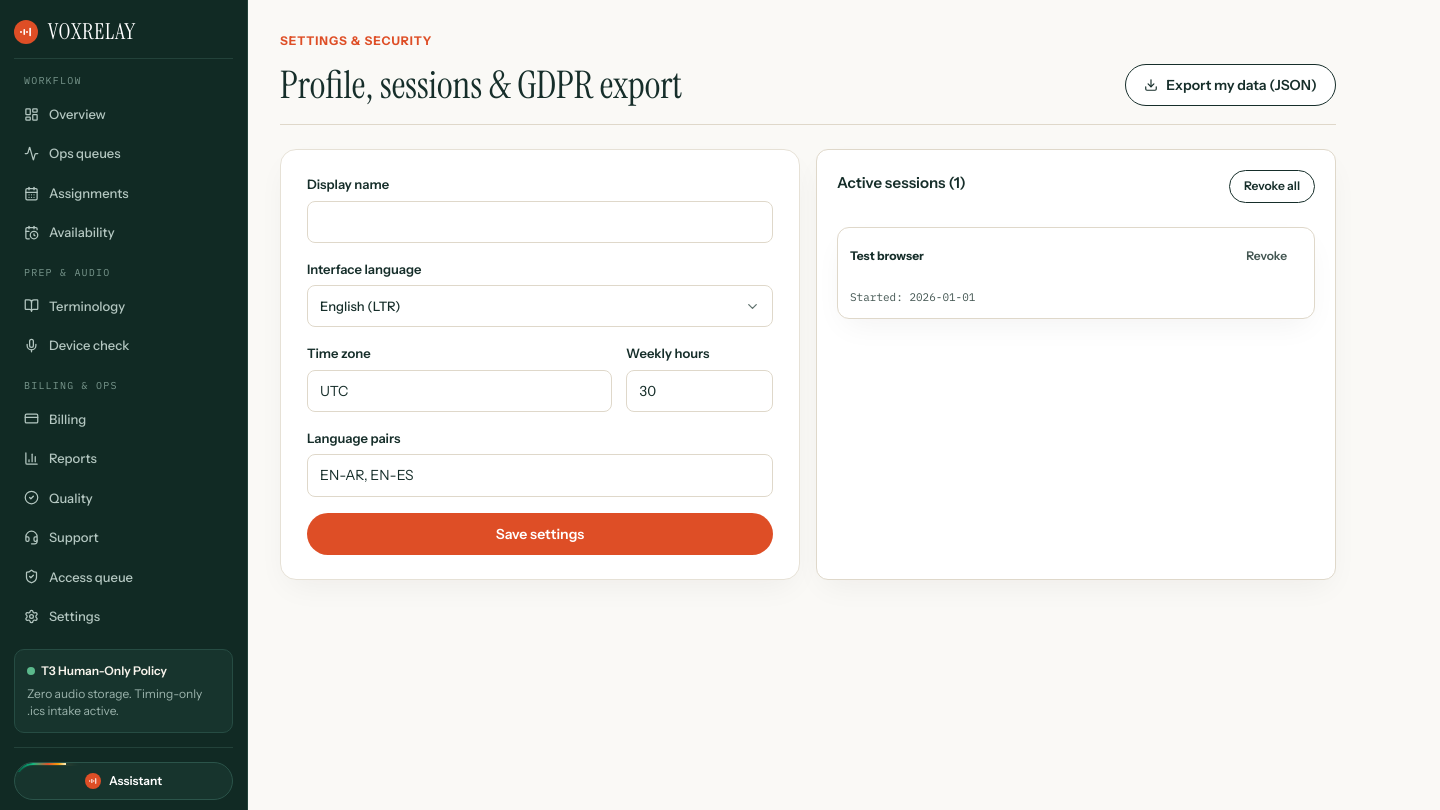
Scenario: shows a retry notice on revoke-all network failure
The image size is (1440, 810).
Click the button "Revoke all" at (1272, 186), box [1229,170,1315,203]
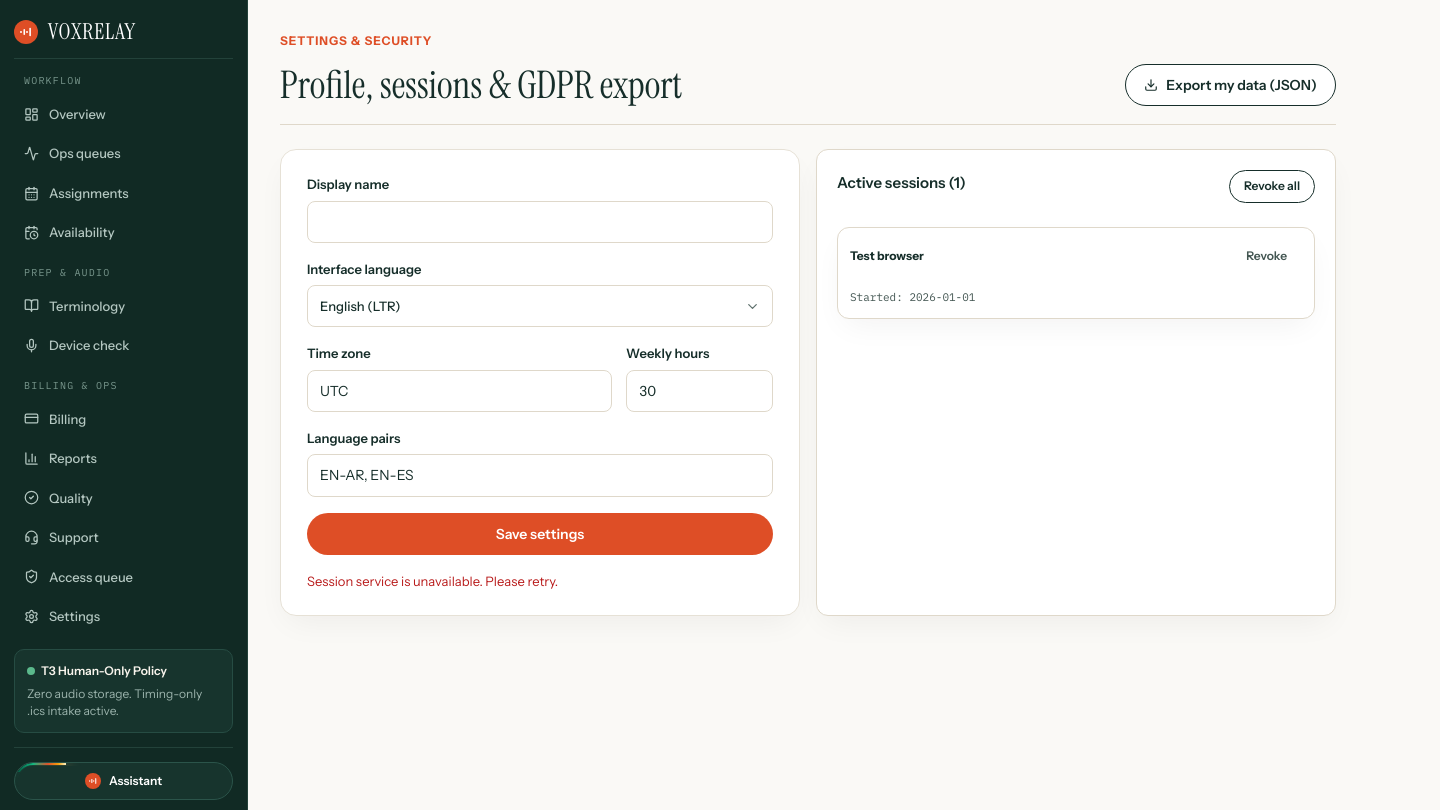
Expected: the text "Session service is unavailable. Please retry." is shown, [307,573,558,589]
